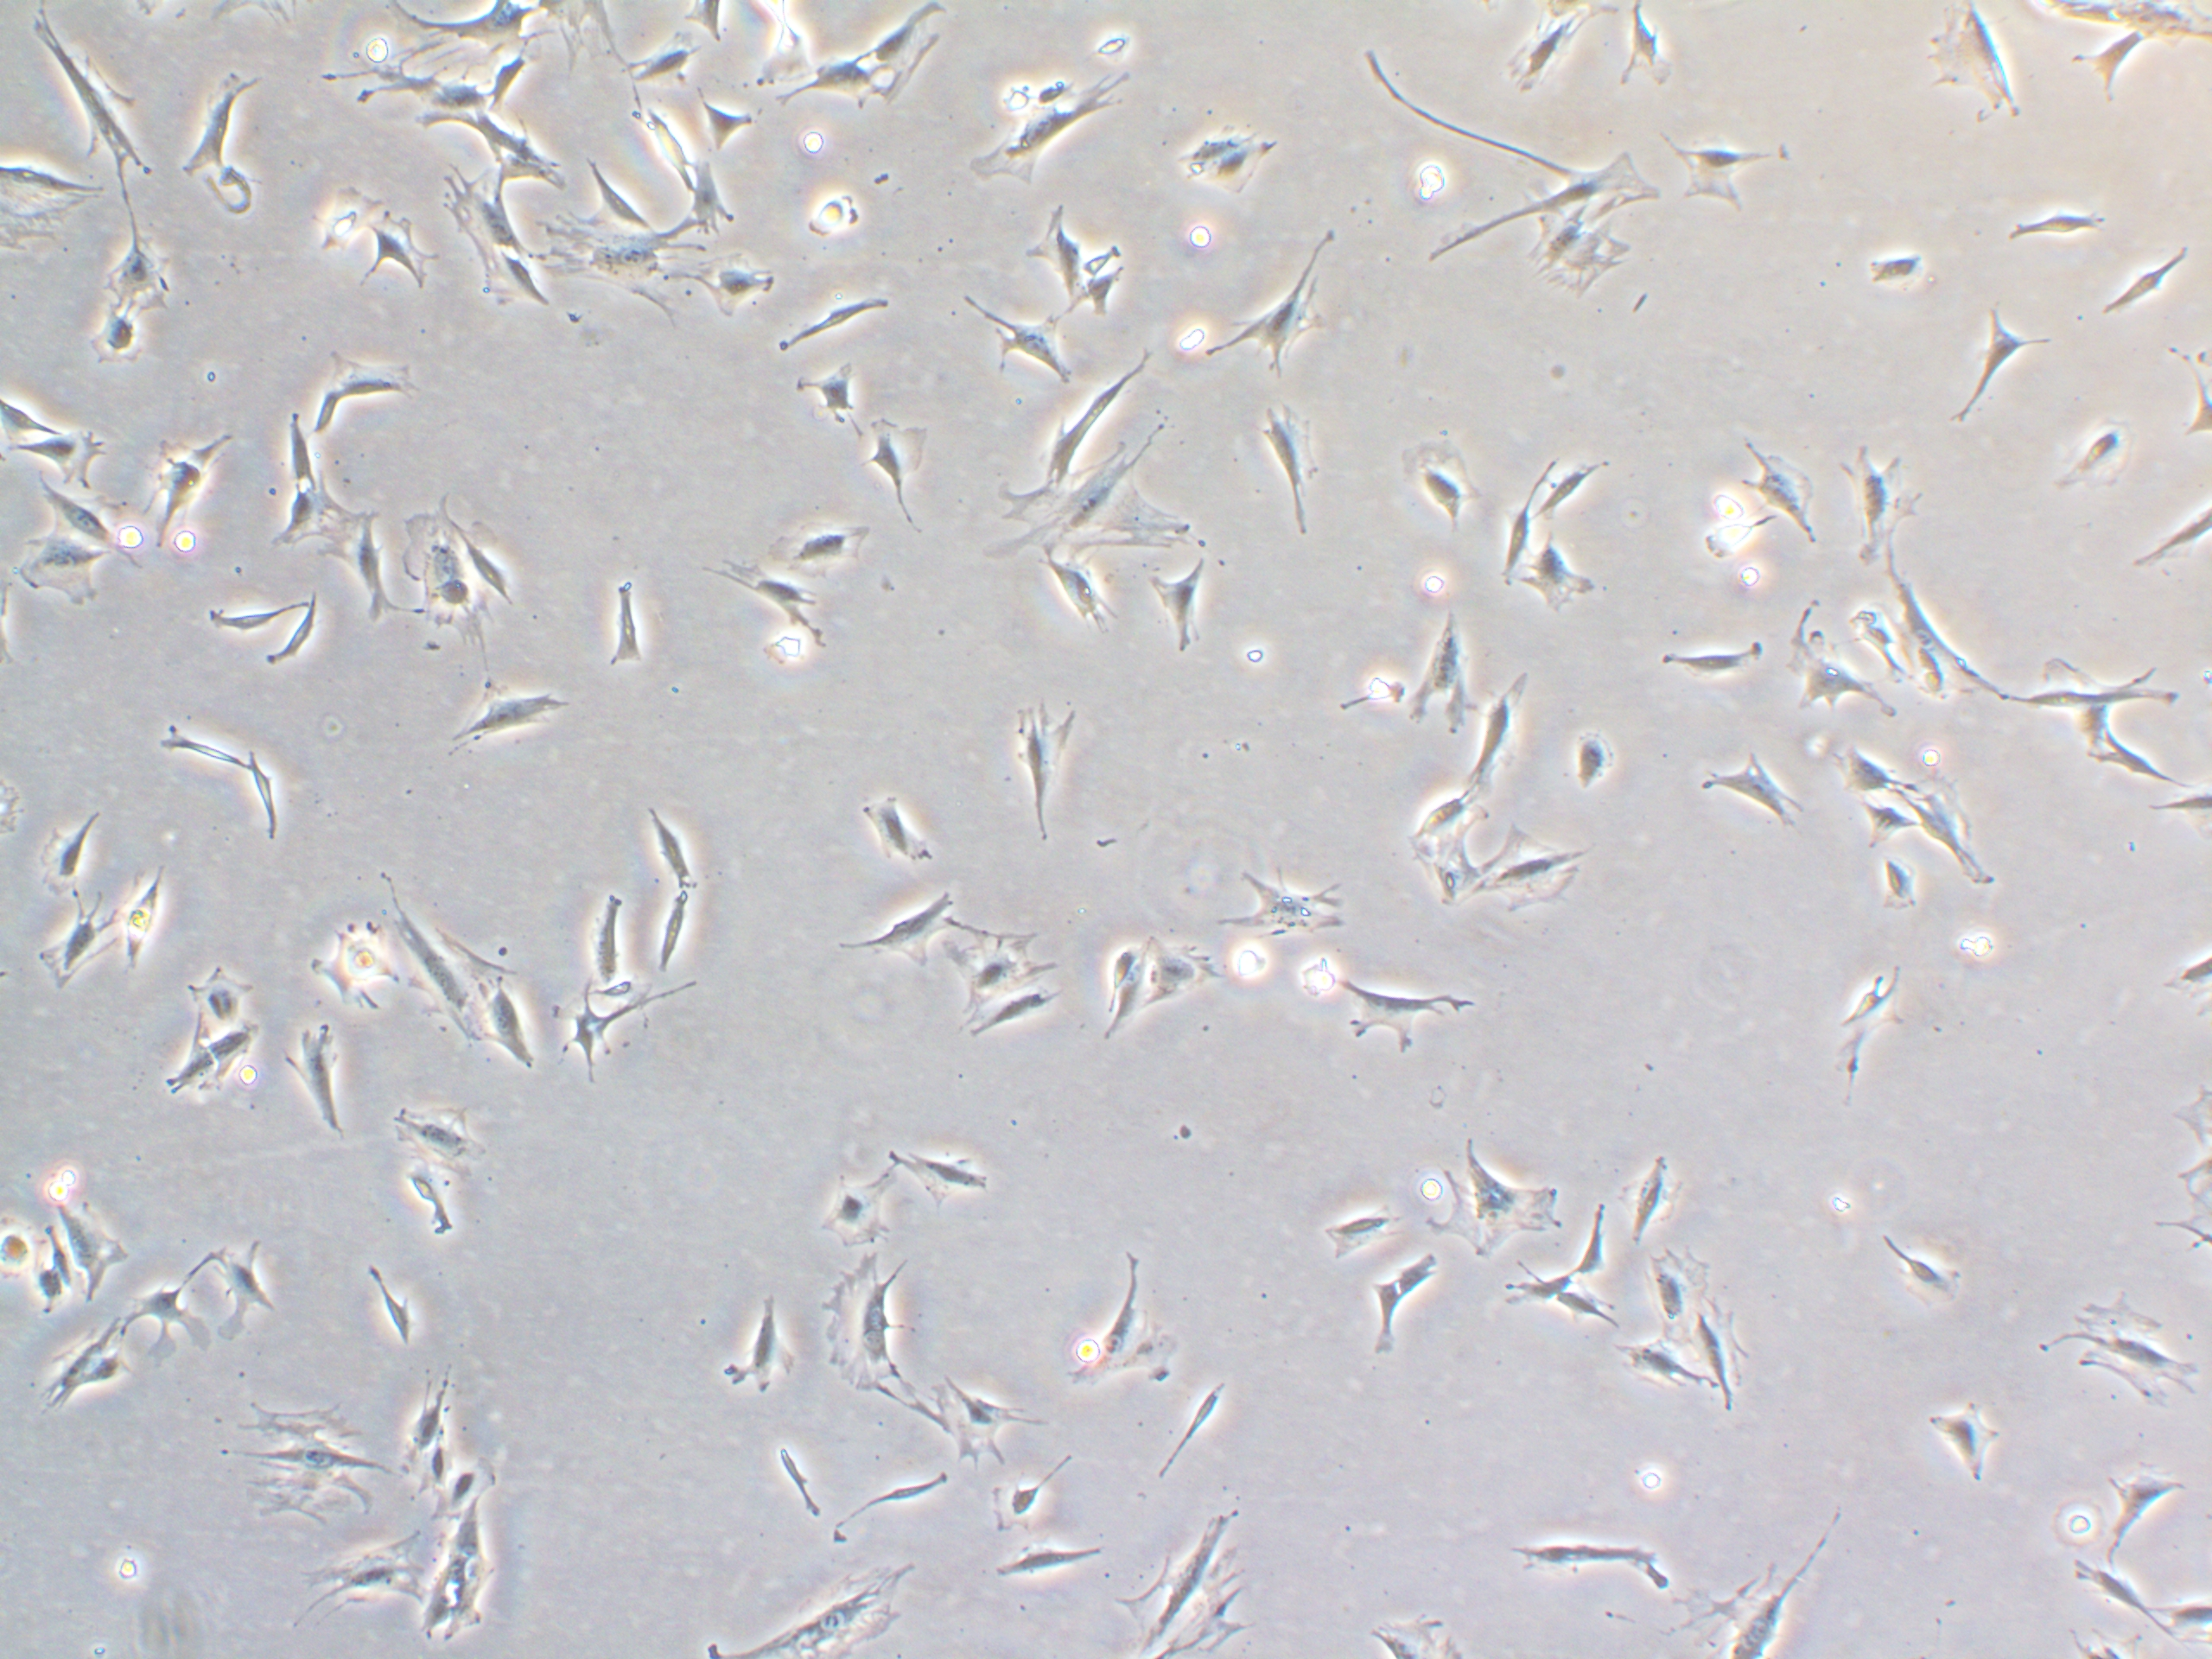small: (282, 913, 399, 1012), (66, 295, 172, 385), (808, 1152, 897, 1249), (296, 174, 383, 265), (1552, 711, 1635, 800), (1848, 230, 1942, 305), (1869, 840, 1935, 932), (791, 181, 862, 253), (2041, 1483, 2109, 1547)
spread: (974, 423, 1198, 575), (1372, 1127, 1575, 1270), (1099, 1507, 1284, 1659), (212, 1392, 401, 1534), (1477, 809, 1635, 939), (397, 477, 489, 683), (819, 1232, 932, 1396), (543, 214, 702, 315), (1514, 206, 1649, 314), (937, 925, 1042, 1016)
